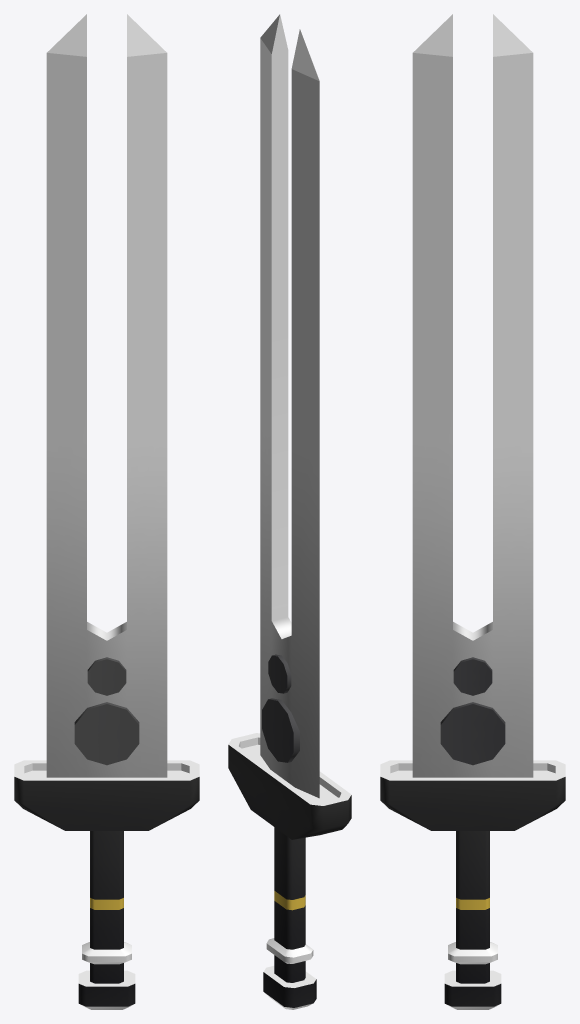
The model's file is Weapon_skyward_split_sword.fbx.
3 views of the same model, side by side, from view 1: azimuth 90°, elevation 25°; view 2: azimuth 210°, elevation 25°; view 3: azimuth 270°, elevation 25° (orthographic).
Parts seen in each view (by area): view 1: W_SS_2; view 2: W_SS_2; view 3: W_SS_2.
Boxes of the visible parts, left/top/right/bottom form: W_SS_2: left=14, top=14, right=199, bottom=1009; W_SS_2: left=228, top=14, right=351, bottom=1009; W_SS_2: left=380, top=14, right=565, bottom=1009.
Bounding box in the file's own units: 4.98 × 113 × 19.18.
